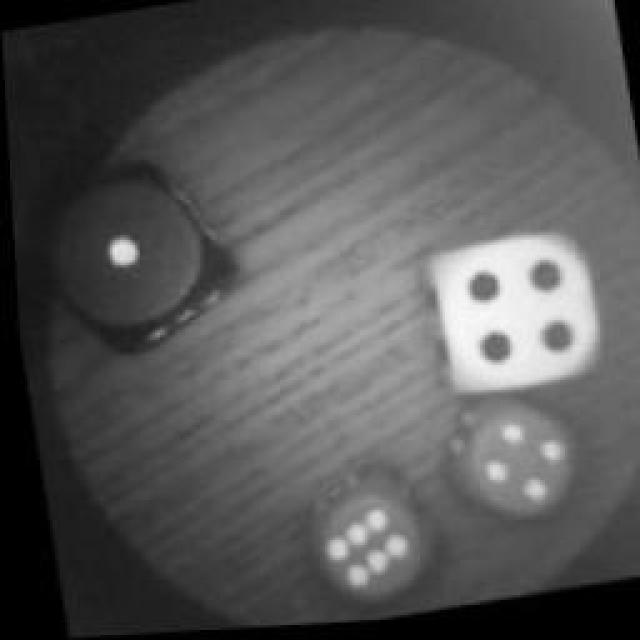dice_1: (25, 149, 245, 366)
dice_4: (400, 212, 620, 422), (431, 384, 594, 541)
dice_6: (285, 462, 443, 622)
